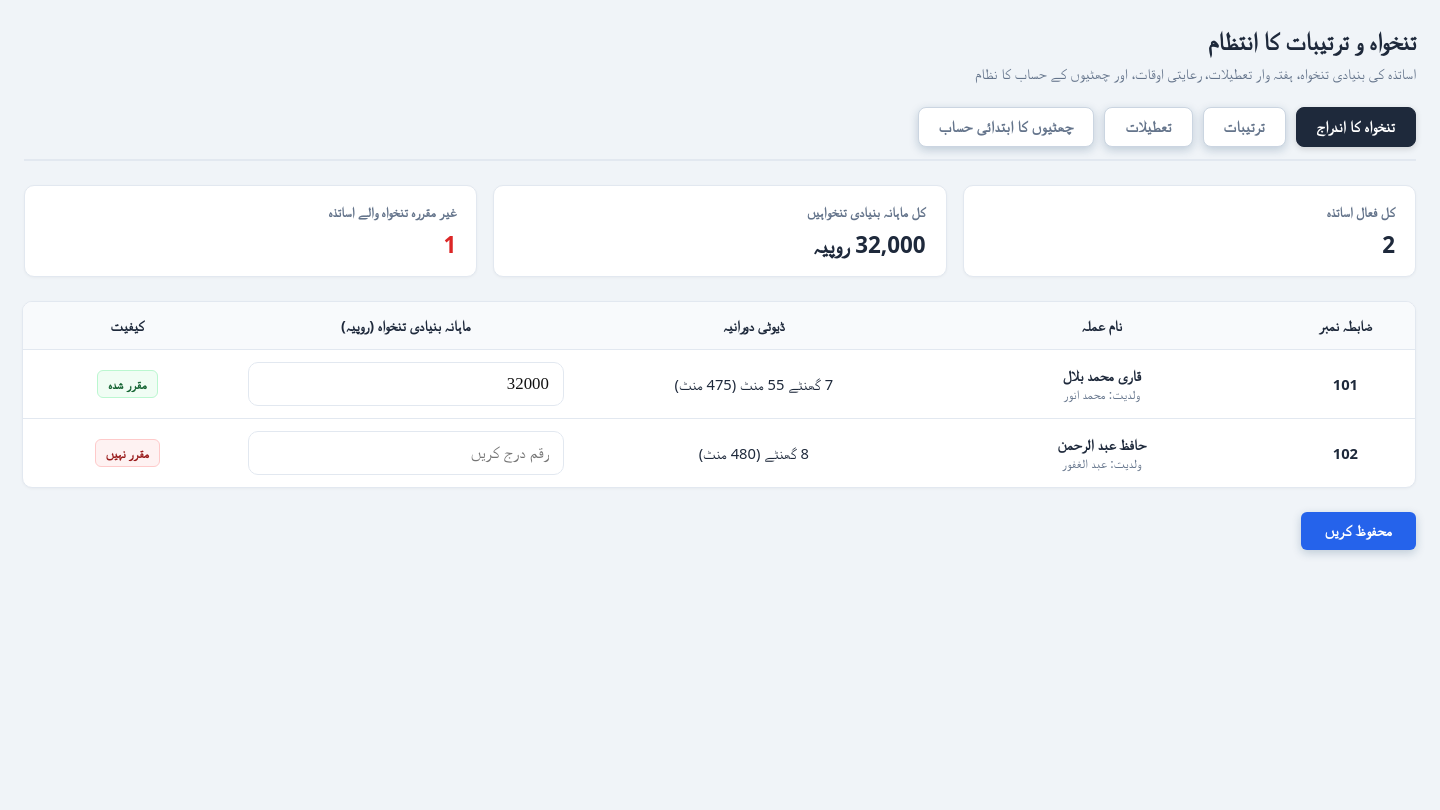
Scenario: Payroll UI & Access Control Tests › Payroll Component Functionality › shows salary input validation message when entering negative or invalid salary
Check: the text "قاری محمد بلال" is shown, box x1=1063 y1=365 x2=1141 y2=385
// Find input for the first teacher
Replace the text in the number field named "ماہانہ تنخواہ برائے قاری محمد بلال" with "-500" at point(406, 384), box x1=248 y1=362 x2=564 y2=406
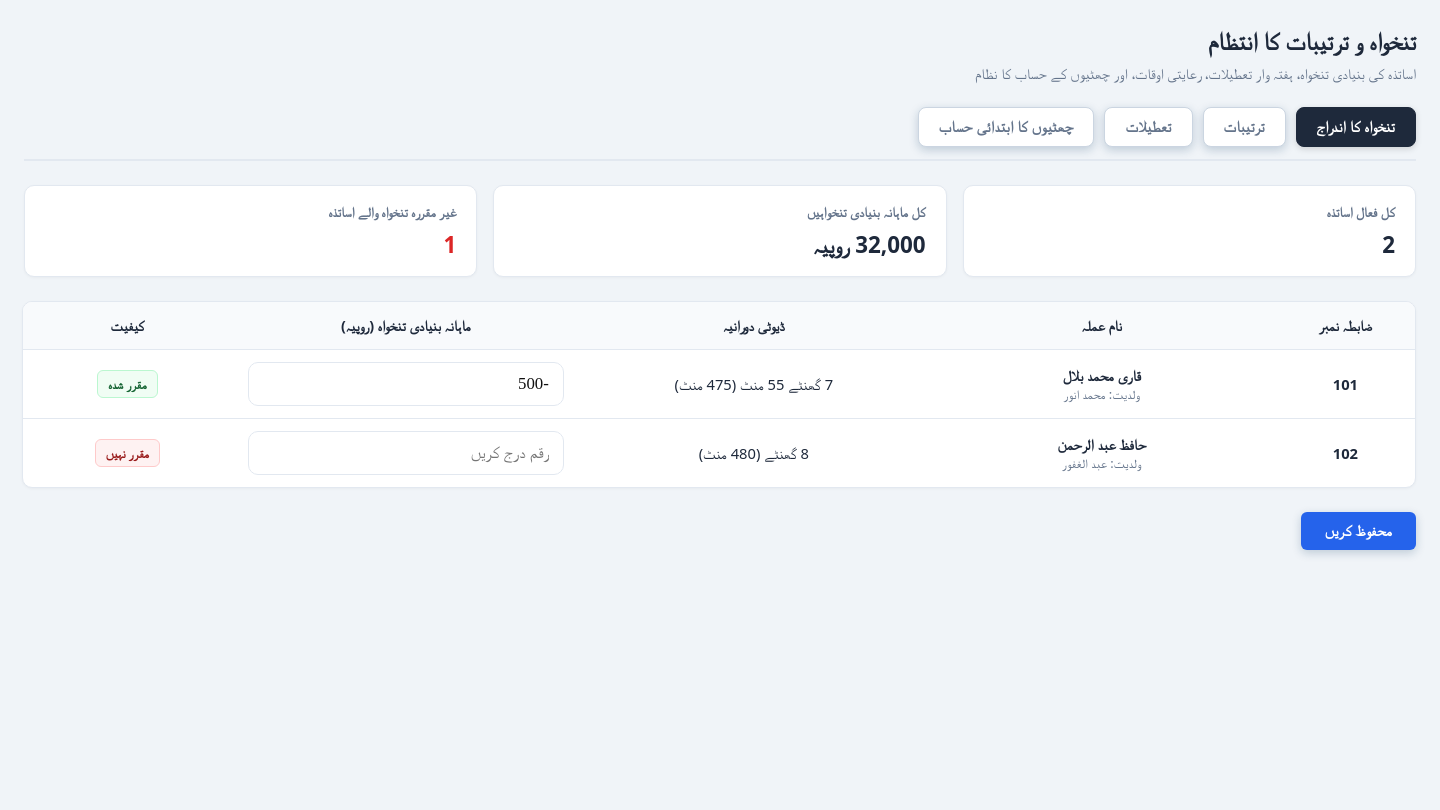
Click the button "محفوظ کریں" at point(1358, 531), box x1=1301 y1=512 x2=1416 y2=550
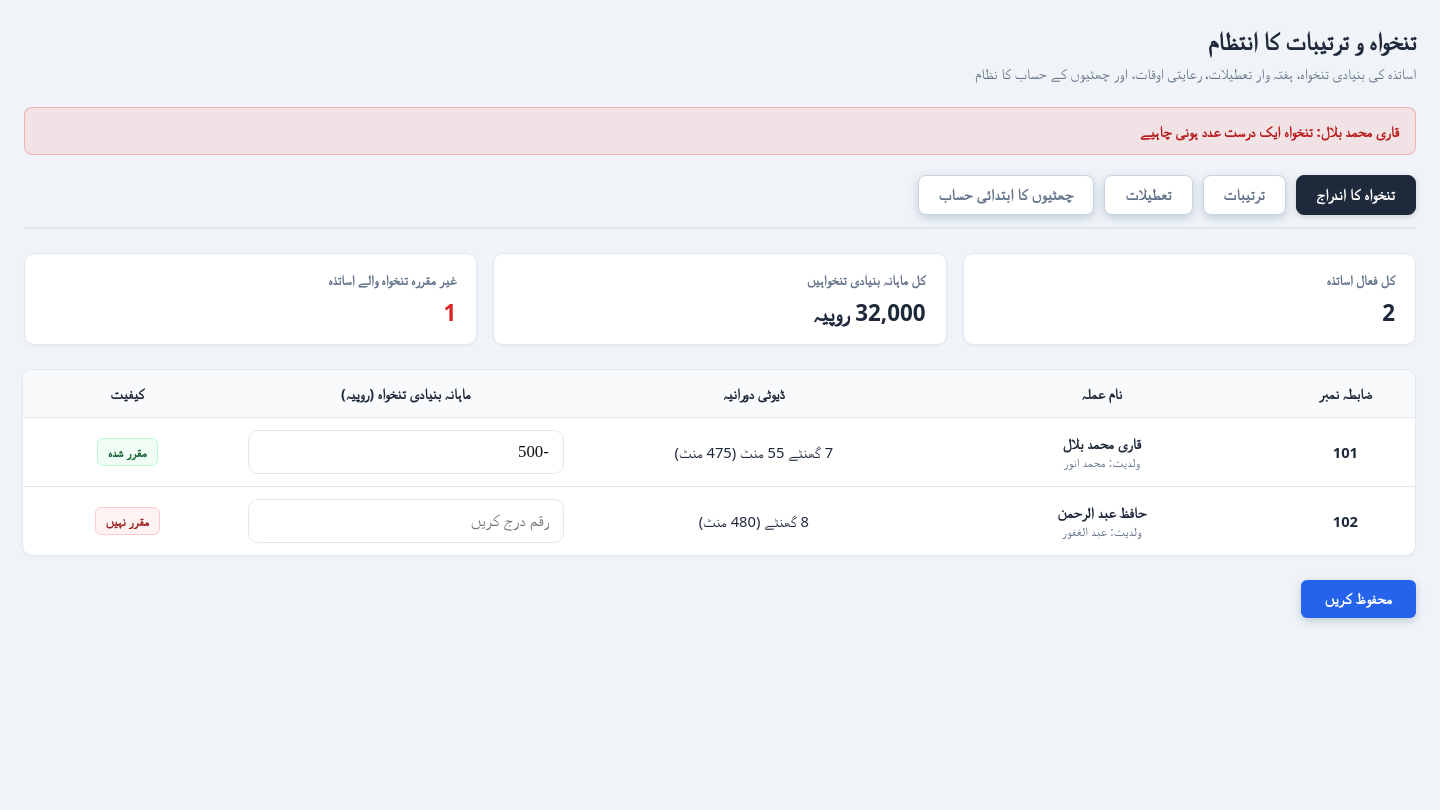
Check: the message shows "تنخواہ ایک درست عدد ہونی چاہیے", box x1=1140 y1=121 x2=1399 y2=141
